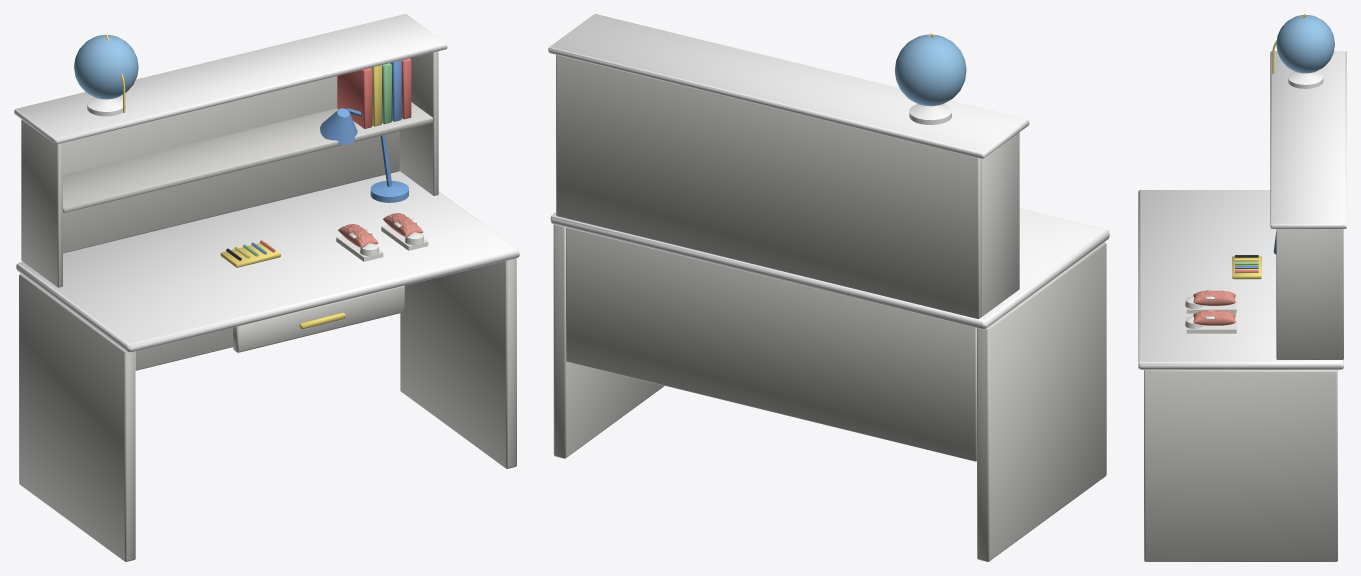
File: SonRoom_Desk.fbx
3 renders of one model, left to right at view 1: azimuth 30°, elevation 25°; view 2: azimuth 150°, elevation 25°; view 3: azimuth 270°, elevation 25°, orthographic. The views are drawn at different scales.
Parts seen in each view (by area): view 1: SonRoom_Desk; view 2: SonRoom_Desk; view 3: SonRoom_Desk.
Part boxes in pixels (x1=…): SonRoom_Desk: x1=14, y1=14, x2=519, y2=561; SonRoom_Desk: x1=548, y1=14, x2=1109, y2=561; SonRoom_Desk: x1=1138, y1=14, x2=1346, y2=561.
Bounding box in the file's own units: 1.4 × 1.52 × 0.71.
